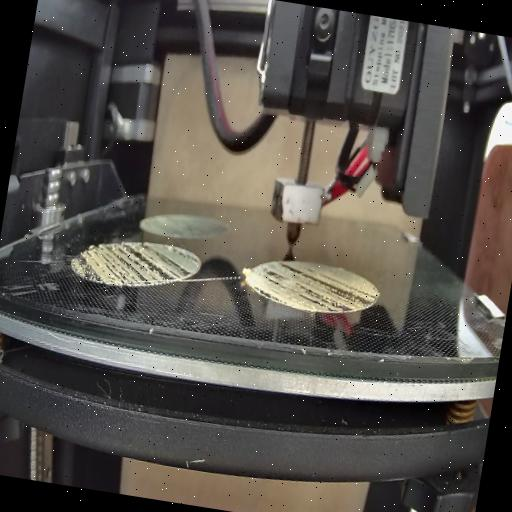under_extrusion: (254, 260, 378, 320), (72, 233, 198, 292)
